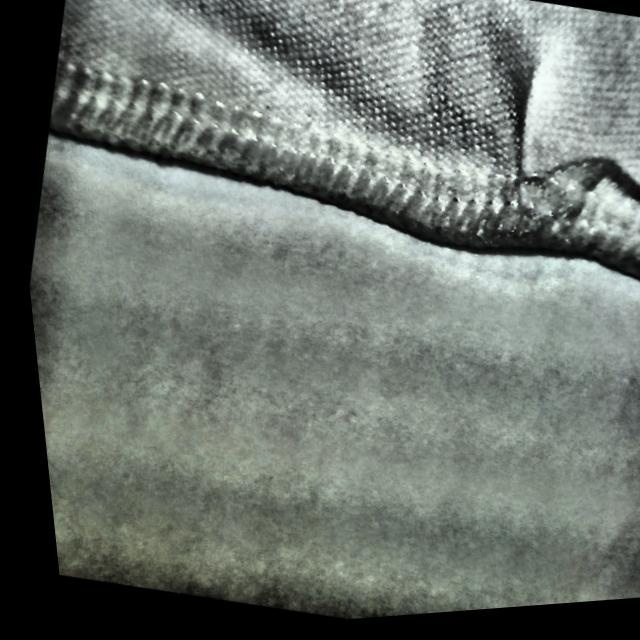seam: (443, 46, 640, 294)
